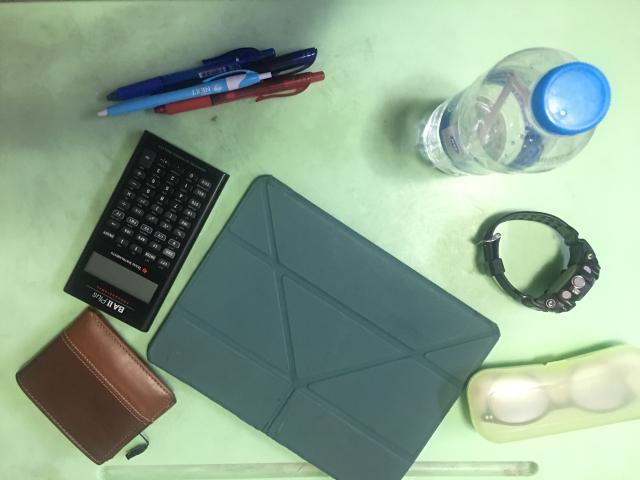Glasses: (468, 345, 640, 442)
Pen: (93, 48, 324, 118)
Wallet: (16, 308, 176, 465)
Watch: (482, 211, 600, 312)
bottle: (420, 48, 610, 175)
